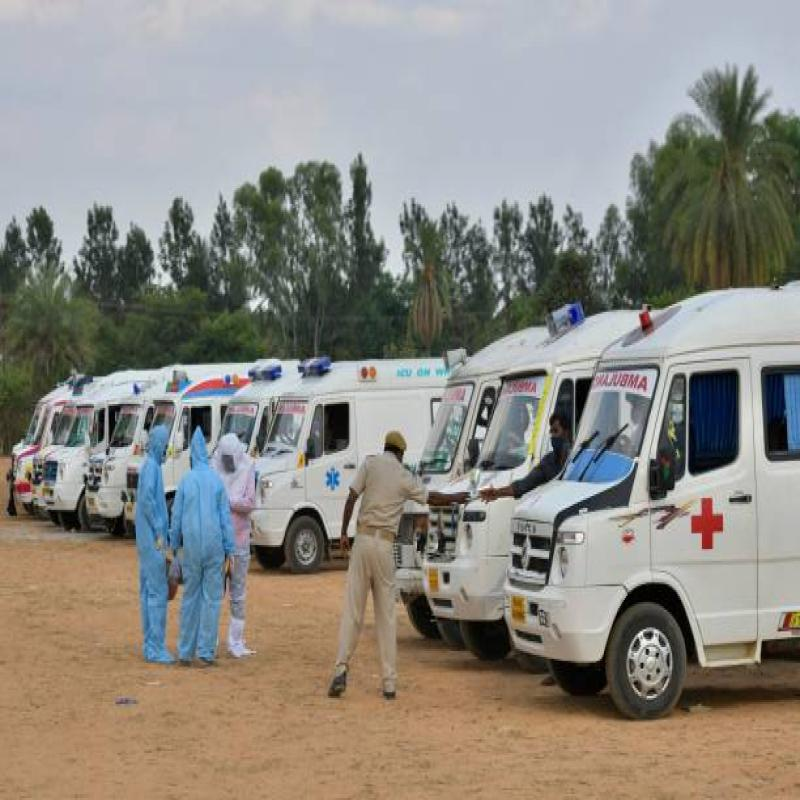ambulance: (524, 308, 800, 712), (9, 374, 123, 522)
